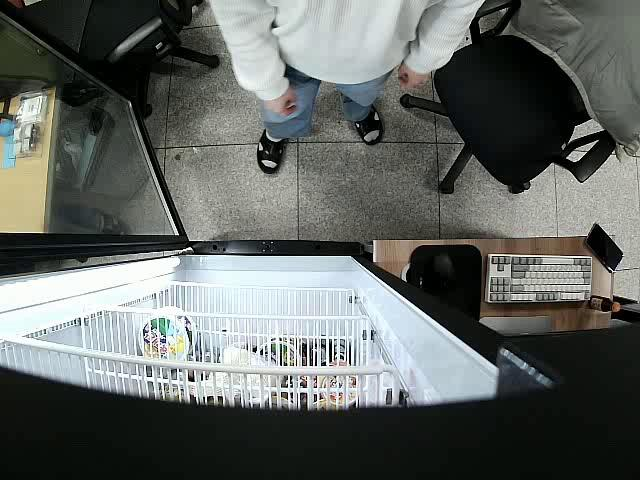00_hand: (263, 85, 300, 118), (398, 64, 429, 91)
